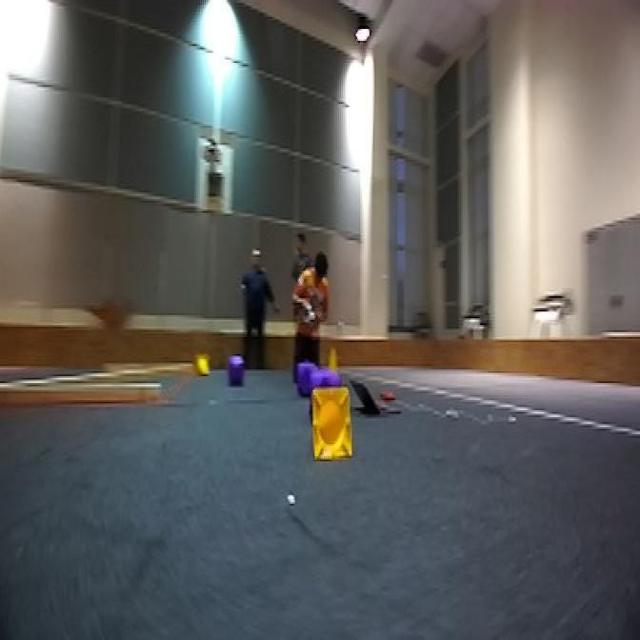frc_cone: (308, 383, 359, 466), (324, 347, 344, 388), (194, 349, 213, 378)
frc_cube: (292, 359, 318, 397), (308, 375, 352, 393), (228, 352, 245, 385)
